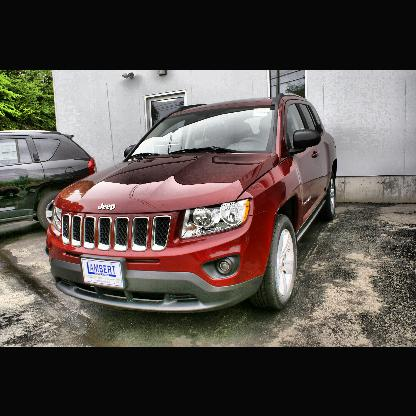Jeep Compass SUV 2012: (43, 95, 339, 312)
